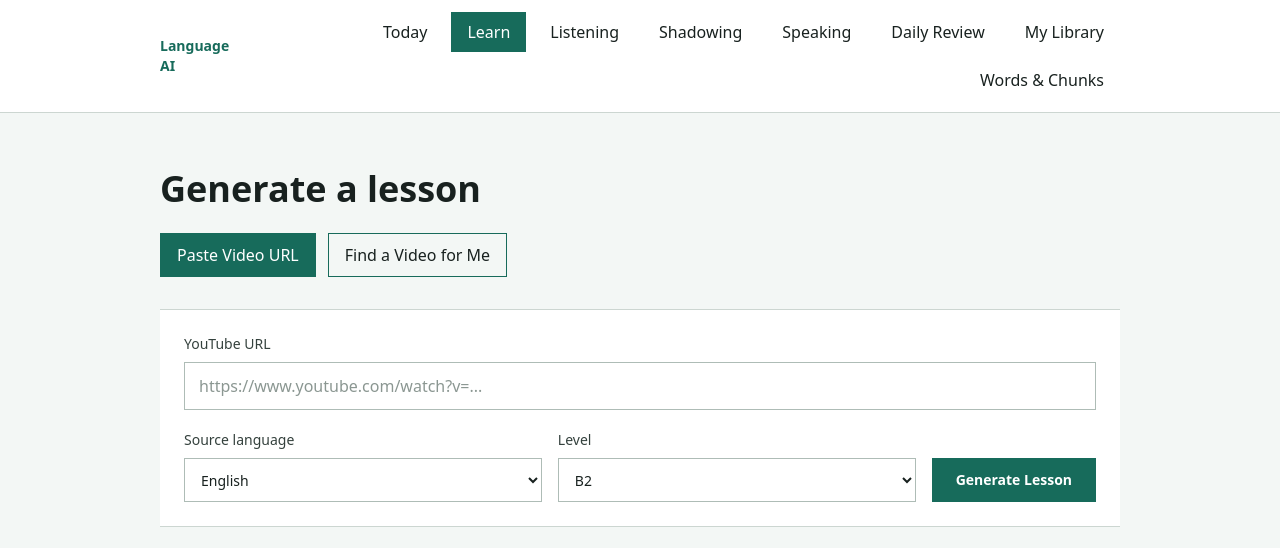
Test: App Library navigation › provides top-level Listening navigation backed by Library summaries
The width and height of the screenshot is (1280, 548).
Click the button "Listening" at (585, 32), box [534, 12, 635, 52]
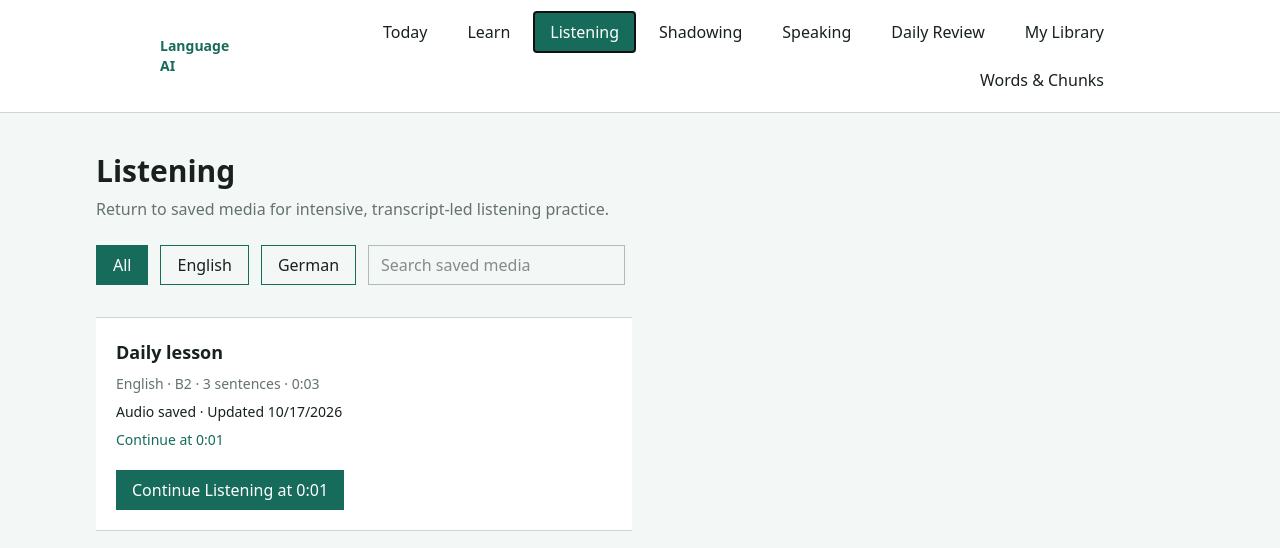
Now the heading "Listening" is shown, box [96, 150, 235, 191]
Now the heading "Daily lesson" is shown, box [116, 340, 223, 364]
Now the button "Continue Listening at 0:01" is shown, box [116, 470, 344, 510]
